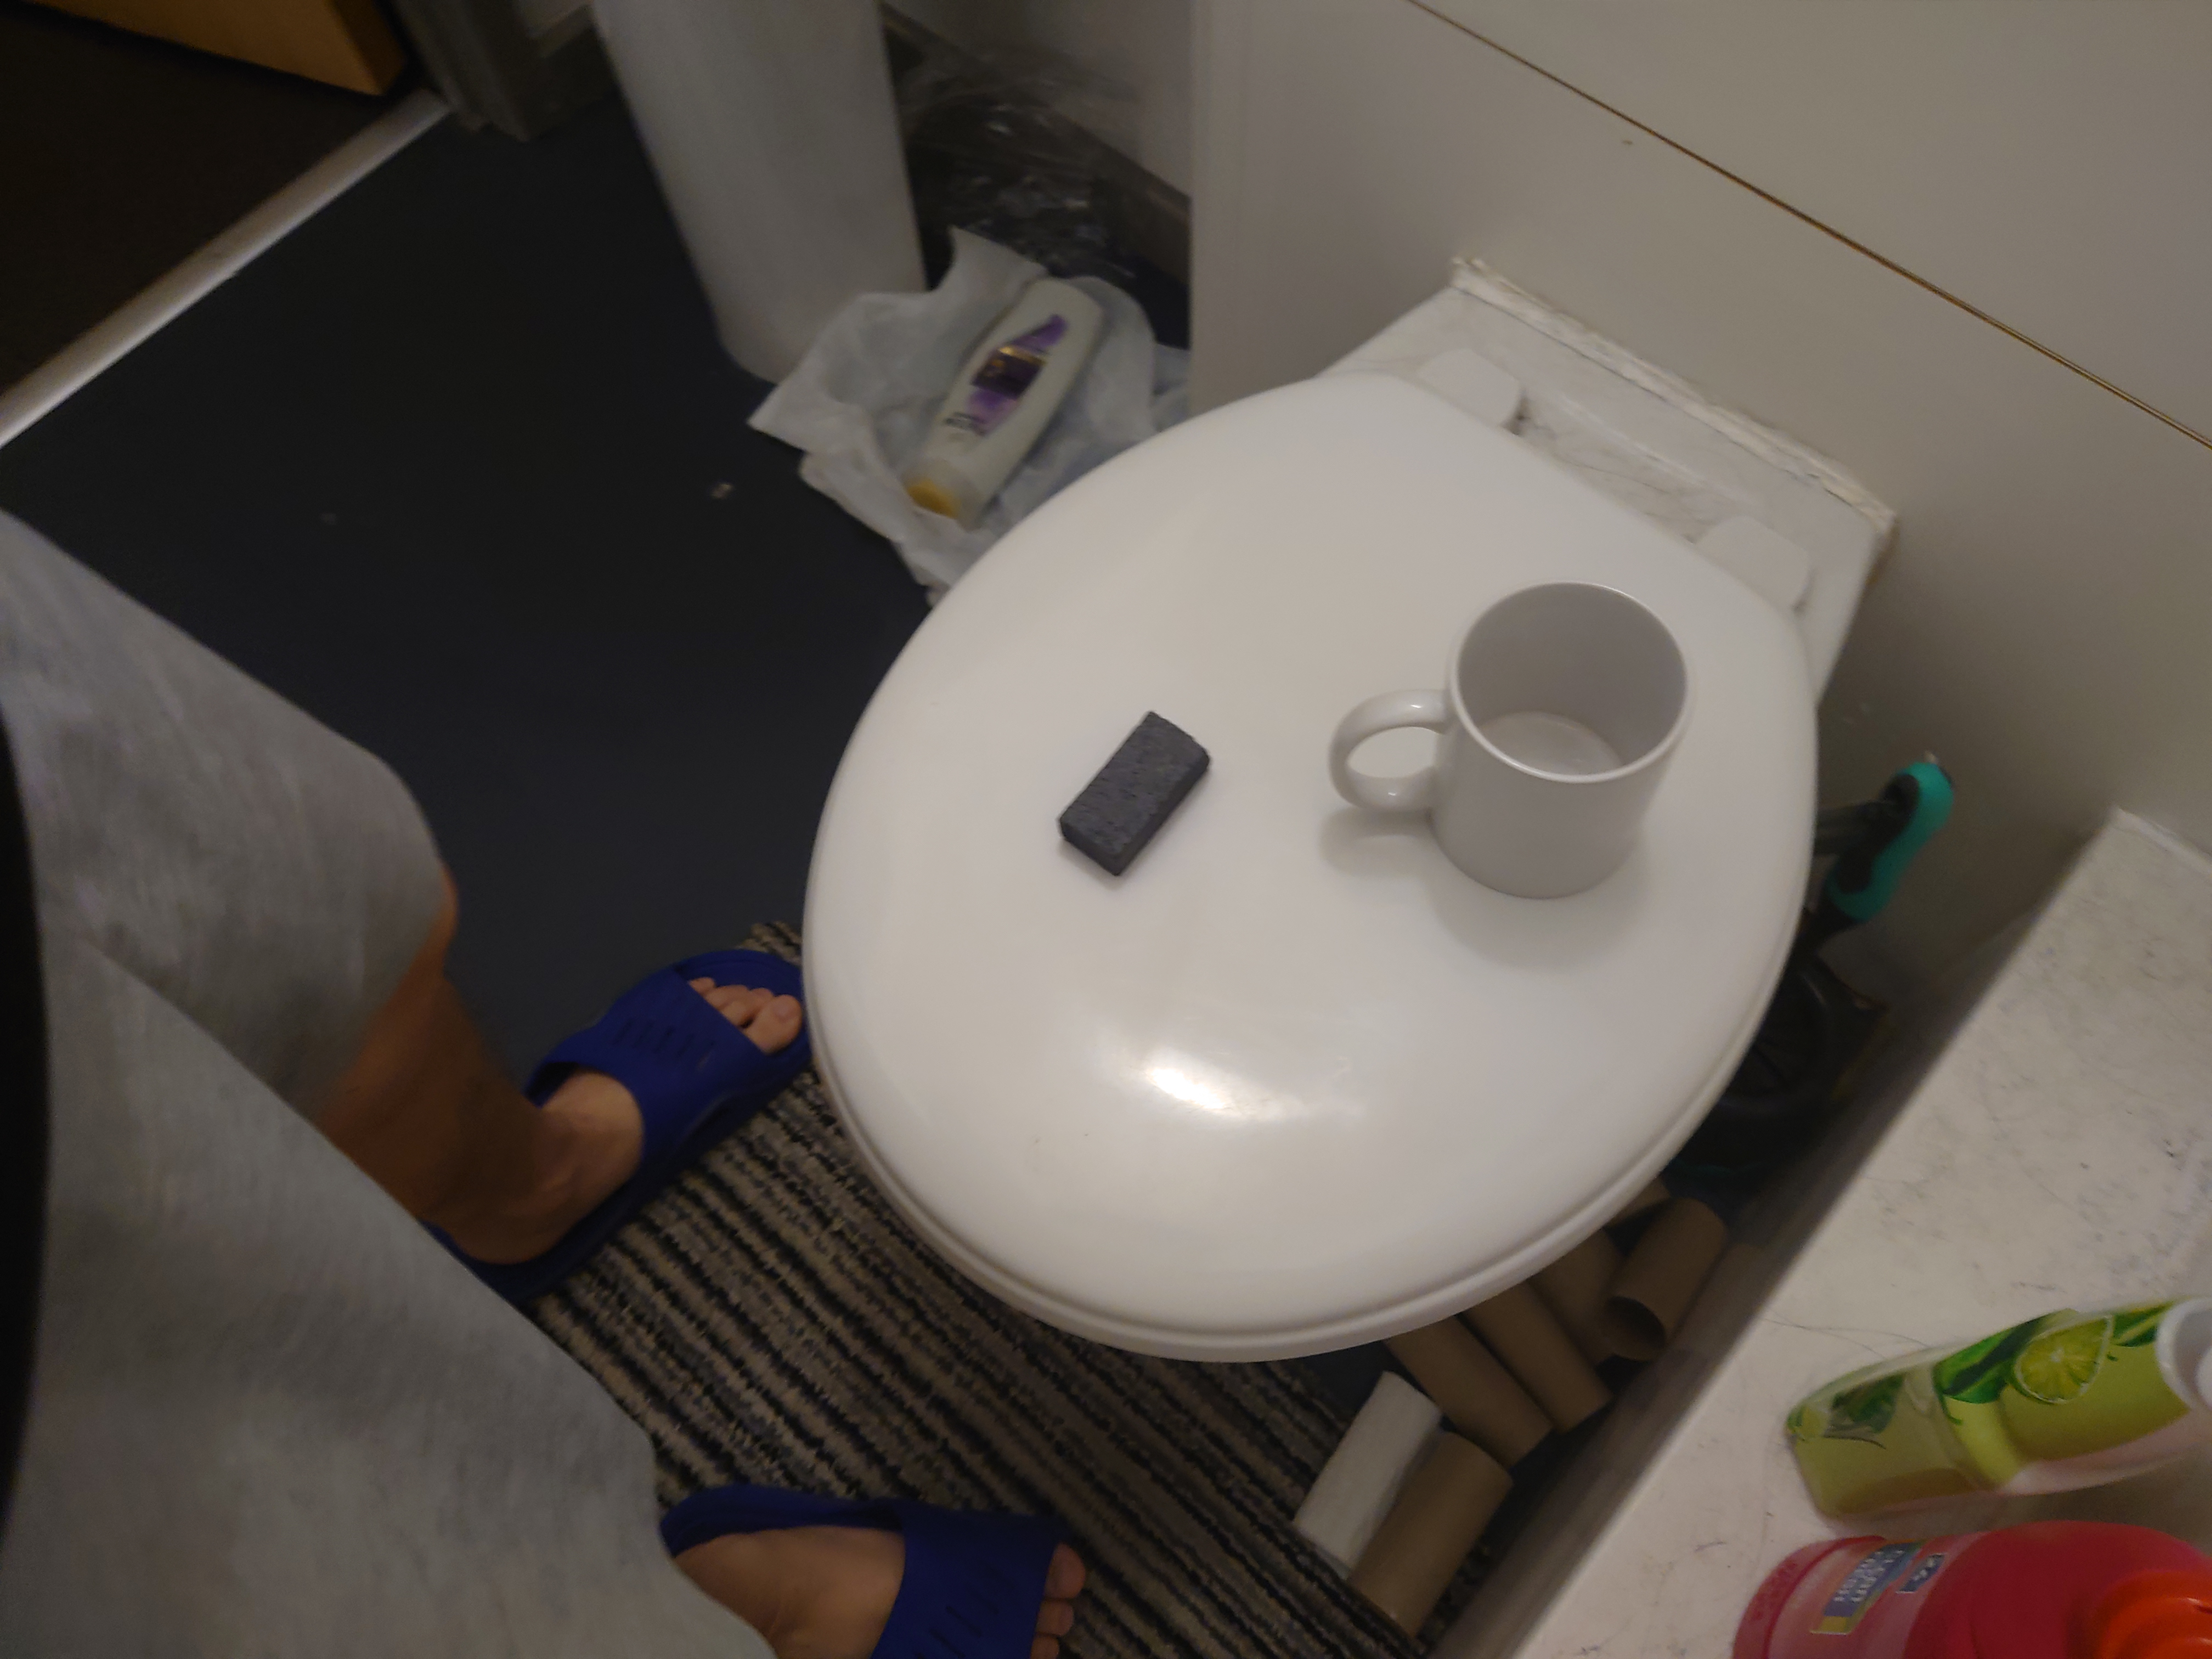cup: (1317, 558, 1691, 904)
target: (1054, 709, 1214, 880)
